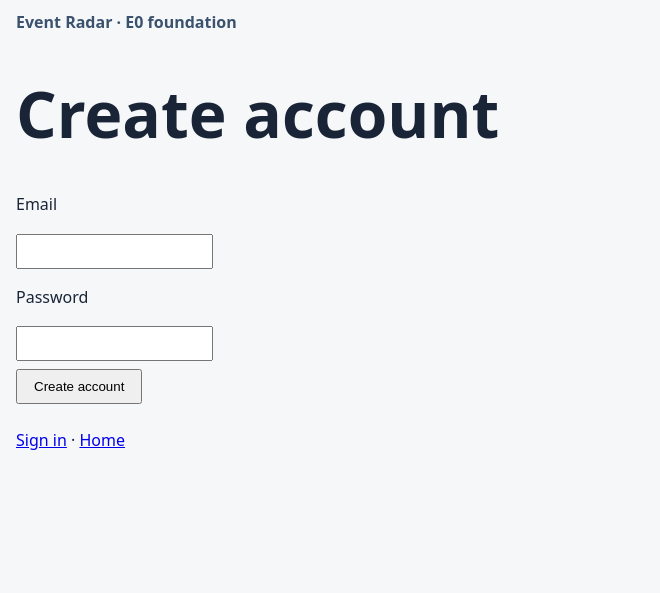
Test case: signup with immediate session enters app
This screenshot has width=660, height=593.
Expected: the button "Create account" is shown, top-left (16, 369), bottom-right (142, 404)
Type "user@example.test" into the field labelled "Email" at coordinates (114, 251), box top-left (16, 234), bottom-right (213, 269)
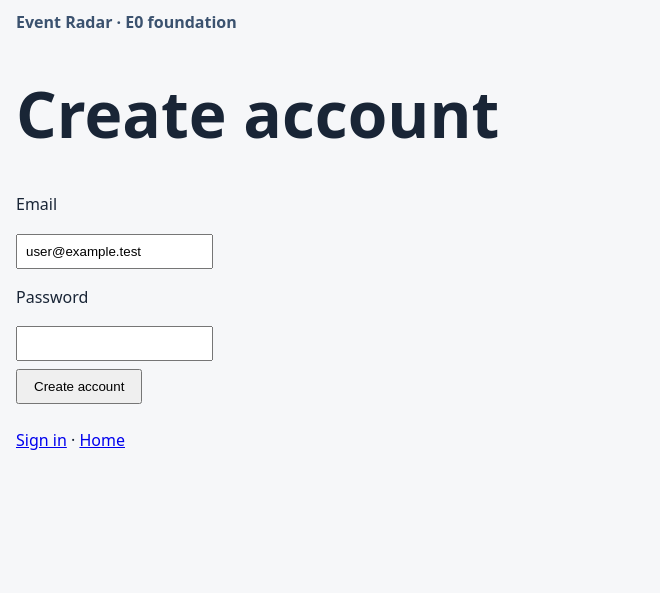
Type "test-password" into the password field labelled "Password" at coordinates (114, 344), box top-left (16, 326), bottom-right (213, 361)
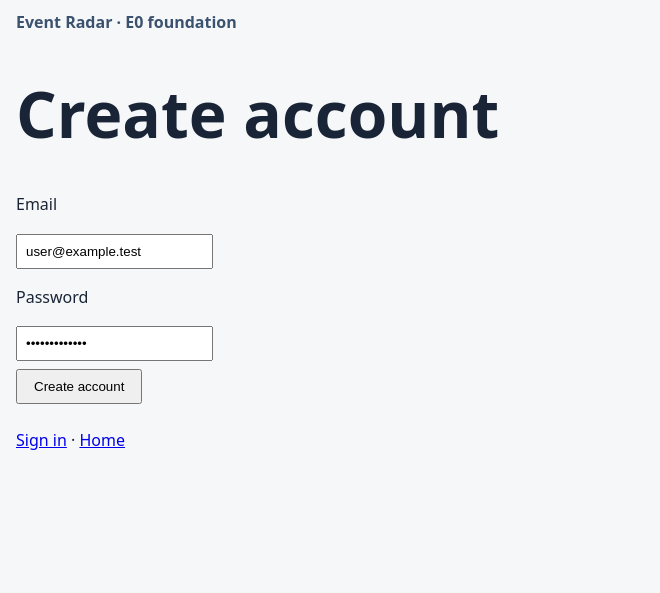
Click the button "Create account" at coordinates (79, 387), box top-left (16, 369), bottom-right (142, 404)
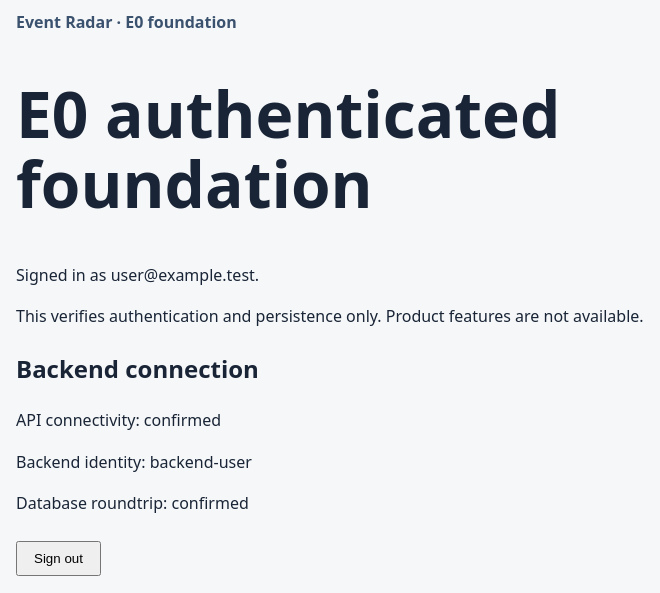
Result: the text "Backend identity: backend-user" is shown at top-left (16, 450), bottom-right (252, 472)
